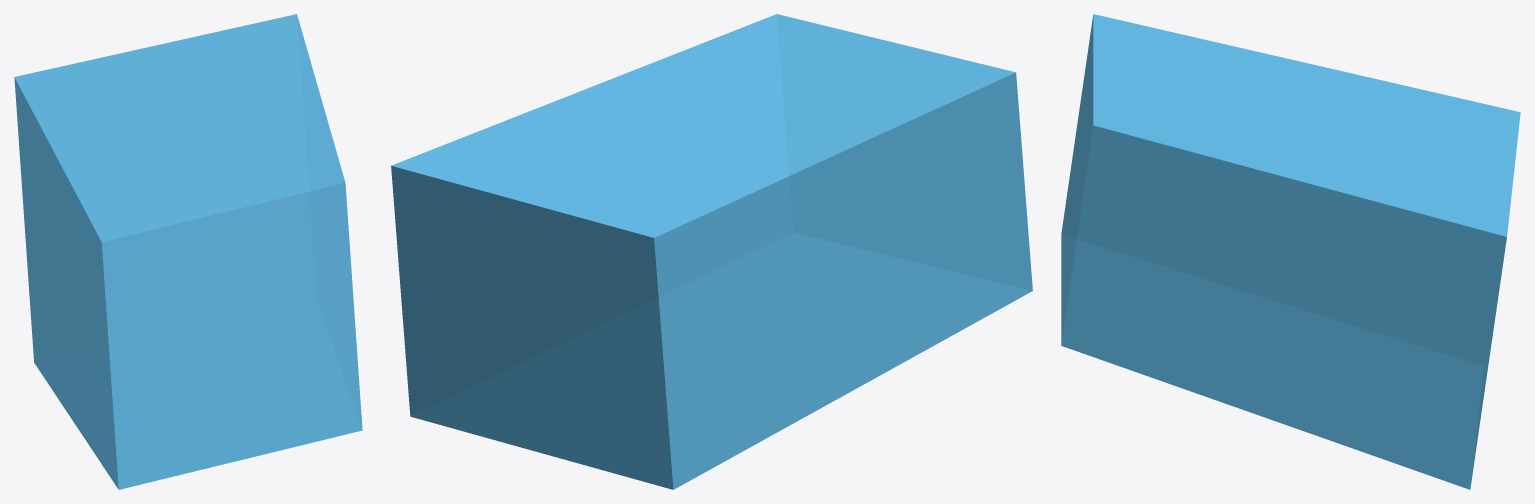
Rendered from Event_421556567_HBrechit_18.fbx.
3 views of the same model, side by side, from view 1: azimuth 30°, elevation 25°; view 2: azimuth 150°, elevation 25°; view 3: azimuth 270°, elevation 25° (orthographic). The views are drawn at different scales.
Parts seen in each view (by area): view 1: Model; view 2: Model; view 3: Model.
Boxes of the visible parts, bbox=[...] form: Model: bbox=[14, 14, 362, 489]; Model: bbox=[391, 14, 1032, 489]; Model: bbox=[1061, 14, 1520, 489].
Bounding box in the file's own units: 0.7371 × 0.5202 × 0.7522.
